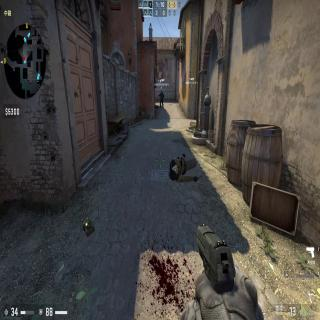CT-Body: (158, 89, 165, 109)
CT-Head: (160, 90, 163, 93)
